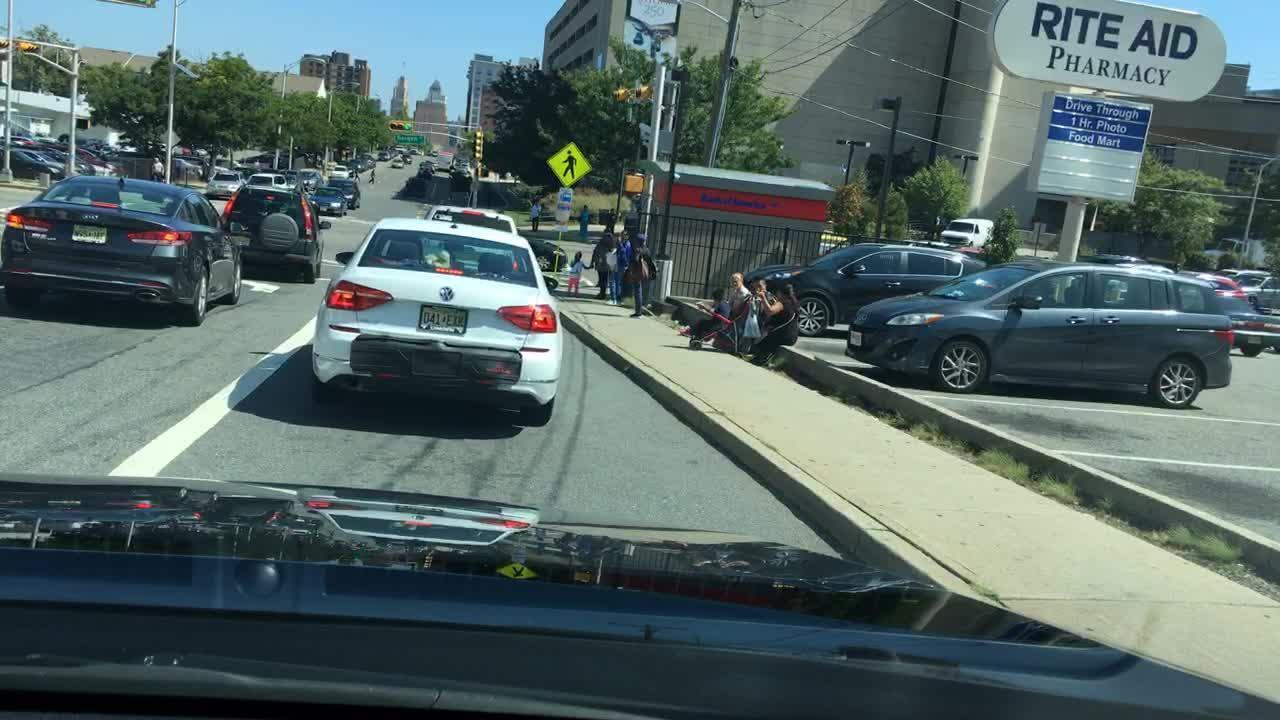Volkswagen: (432, 279, 466, 309)
kia: (76, 211, 103, 224)
